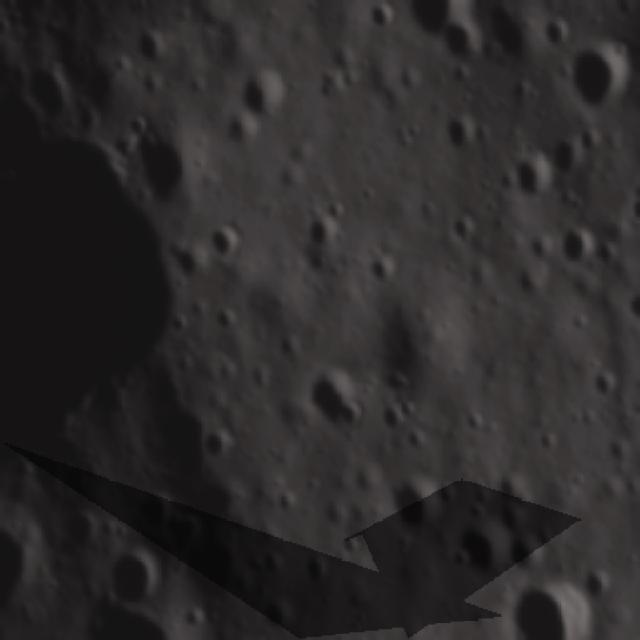crater: (132, 112, 208, 216), (496, 571, 598, 640), (558, 37, 636, 120), (296, 354, 373, 438), (448, 506, 514, 586), (380, 463, 446, 539), (96, 546, 166, 614), (71, 595, 175, 640), (398, 0, 489, 46), (237, 62, 297, 125), (504, 140, 554, 206), (220, 102, 265, 164), (431, 20, 484, 72), (203, 217, 254, 266), (504, 532, 550, 583), (126, 484, 177, 530), (303, 206, 348, 254), (552, 219, 594, 270), (132, 25, 178, 66), (163, 239, 206, 281), (197, 420, 240, 462), (299, 548, 338, 594), (580, 559, 618, 603), (366, 247, 403, 290), (208, 299, 246, 336), (375, 358, 413, 394), (448, 208, 479, 252), (165, 308, 197, 344), (591, 367, 620, 402), (363, 0, 397, 29), (602, 431, 629, 464), (393, 394, 421, 424), (534, 422, 560, 452), (464, 404, 488, 434), (404, 427, 428, 455)
